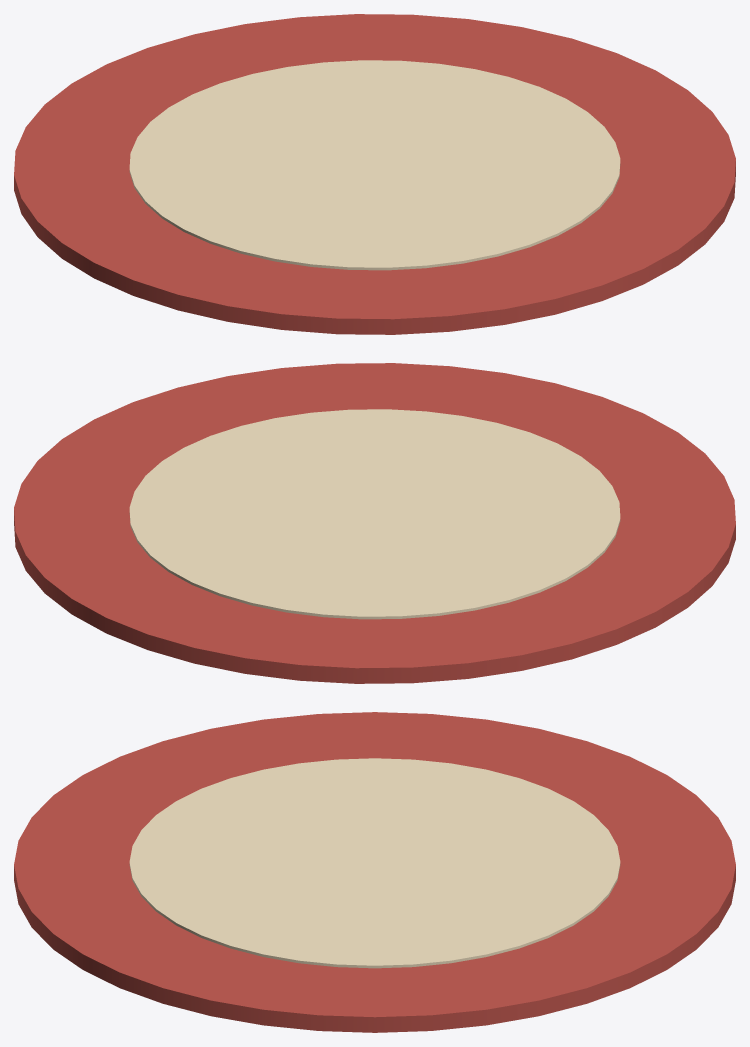
Rendered from rug.glb.
3 views of the same model, one above another, from view 1: azimuth 30°, elevation 25°; view 2: azimuth 150°, elevation 25°; view 3: azimuth 270°, elevation 25° (orthographic).
Visible parts, largest first — view 1: Rug, Ring; view 2: Rug, Ring; view 3: Rug, Ring.
Boxes of the visible parts, x1,y1,x2,y2 form: Rug: [14, 14, 735, 334]; Ring: [129, 60, 620, 270]; Rug: [14, 363, 735, 683]; Ring: [129, 409, 620, 619]; Rug: [14, 712, 735, 1032]; Ring: [129, 758, 620, 968].
Size of the model in its own units: 0.5 by 0.014 by 0.5.
